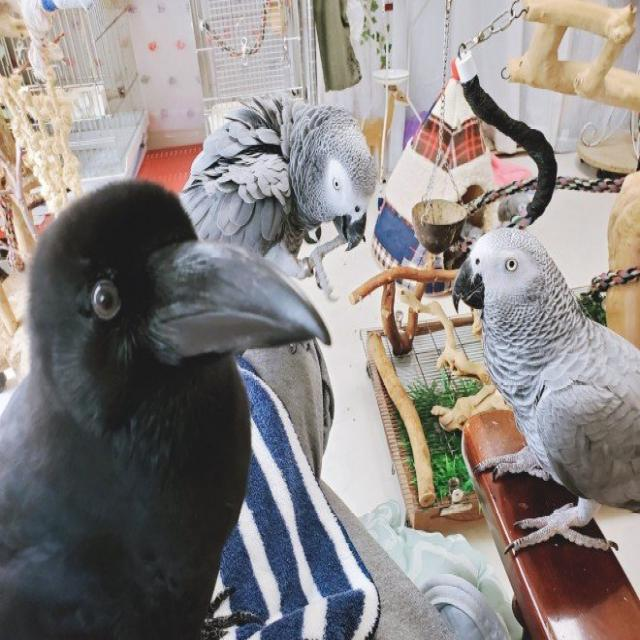crow: (0, 180, 357, 640)
